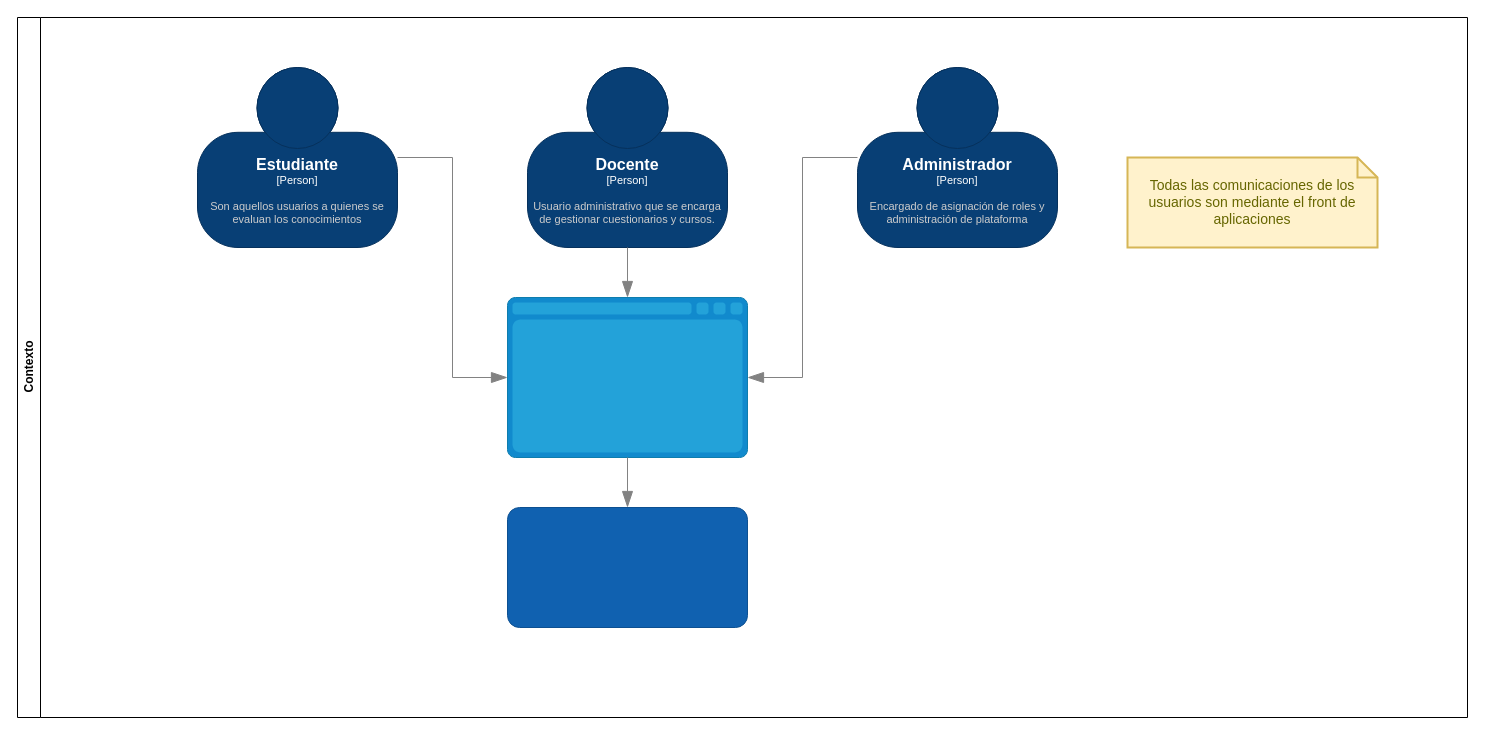
This 1485x735 diagram has some shape labels left out. The shapes that lost their labels are listed below. From the top down, each one's centre as x and y in pixels, then its label:
the point at 627,377: Aplicación Web [Container: Angular] Interfaz gráfica de usuario
the point at 627,567: API Backend modular [Software System] Monolito modular con los servicios backend
